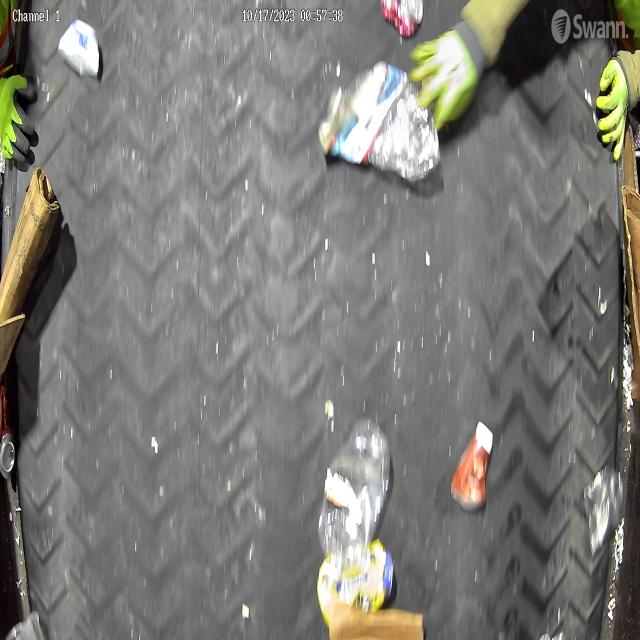can: (586, 464, 624, 554), (378, 0, 423, 40), (0, 386, 16, 477)
plastic_bottle: (325, 62, 442, 181)
